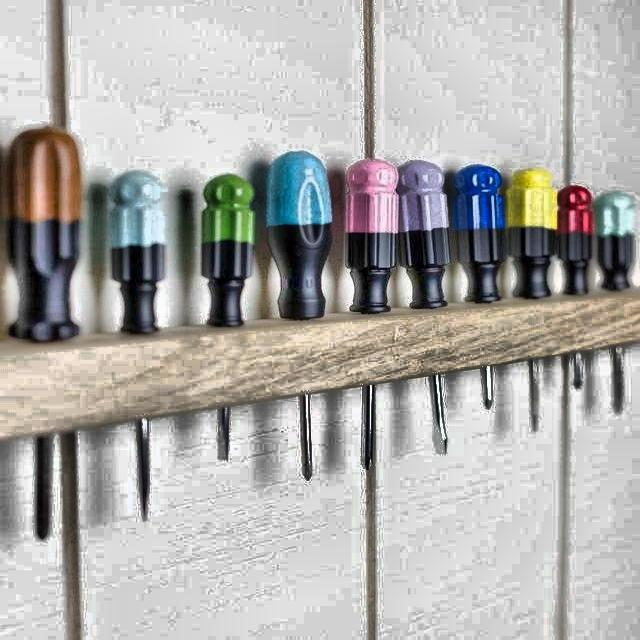screwdriver: (8, 125, 84, 538), (106, 169, 170, 522), (266, 148, 332, 482), (345, 158, 399, 470), (396, 158, 450, 454), (200, 172, 254, 462), (453, 162, 508, 408), (510, 168, 556, 432), (596, 192, 634, 415), (558, 184, 594, 389)
